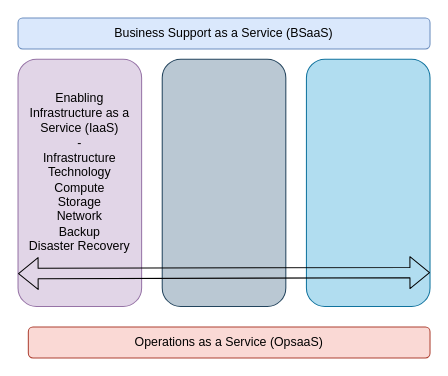
The diagram is 448 pixels wide and 376 high, and some of its shapes have lost their labels. Each missing label, with the centre of its shape:
Enabling Platform as a Service (PaaS) - Runtime Environments Development Tools: the point at 223,182
Enabling Software as a Service (SaaS) - Runtime Environments Development Tools: the point at 367,182
